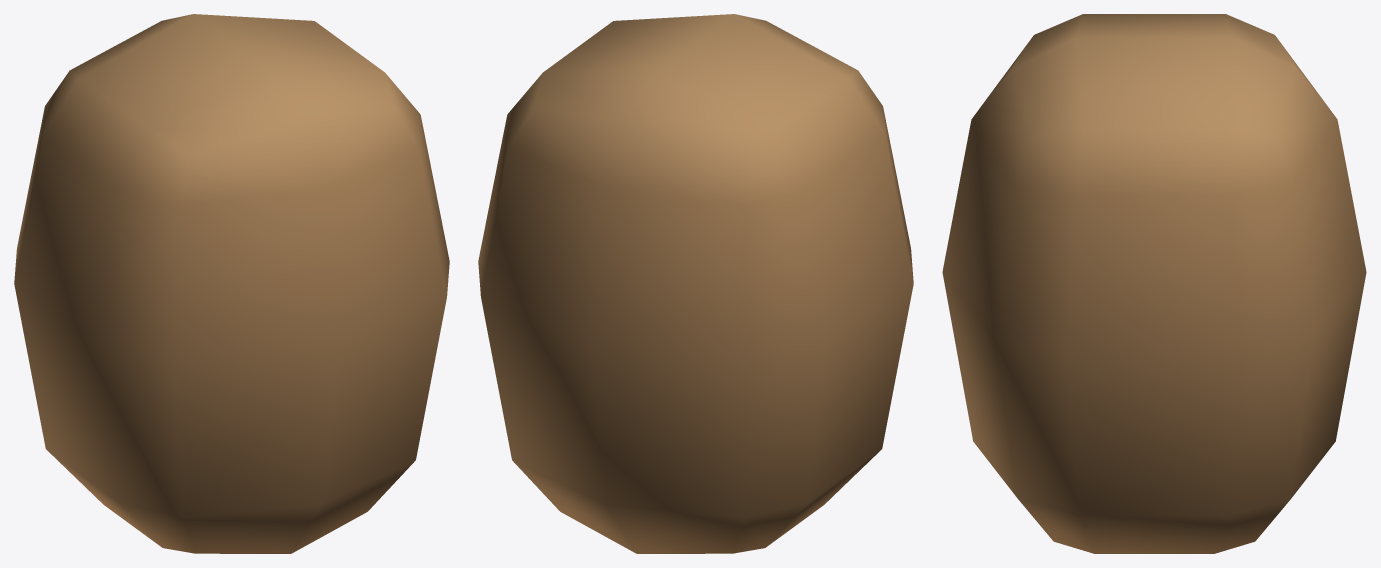
Rendered from Rock_6_B_Color5.fbx.
The picture shows the model from 3 angles, left to right: view 1: azimuth 30°, elevation 25°; view 2: azimuth 150°, elevation 25°; view 3: azimuth 270°, elevation 25°; orthographic projection.
Parts seen in each view (by area): view 1: Rock_6_B_Color5; view 2: Rock_6_B_Color5; view 3: Rock_6_B_Color5.
Boxes of the visible parts, x1=… form: Rock_6_B_Color5: x1=14, y1=14, x2=449, y2=553; Rock_6_B_Color5: x1=478, y1=14, x2=913, y2=553; Rock_6_B_Color5: x1=942, y1=14, x2=1366, y2=553.
Size of the model in its own units: 0.4758 by 0.6175 by 0.4932.
